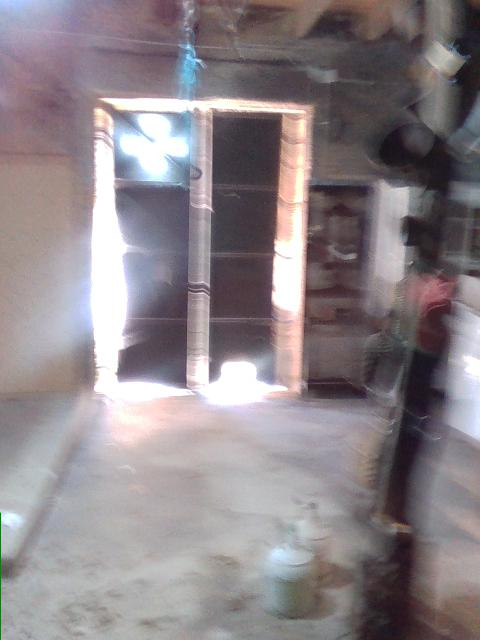door: (88, 100, 306, 398)
